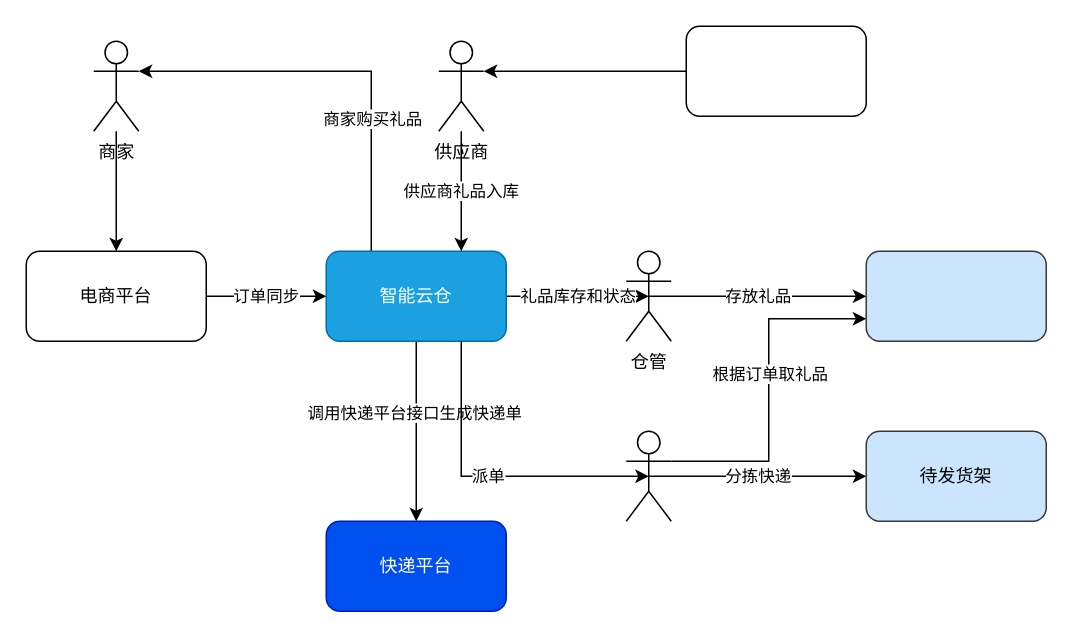
This 1073x638 diagram has some shape labels left out. Here are the shapes that lost their labels. From the top down, the box of each, then its label:
(685, 25, 866, 116): 供应商系统
(865, 250, 1046, 341): 仓库货架
(625, 430, 671, 521): 分拣员
